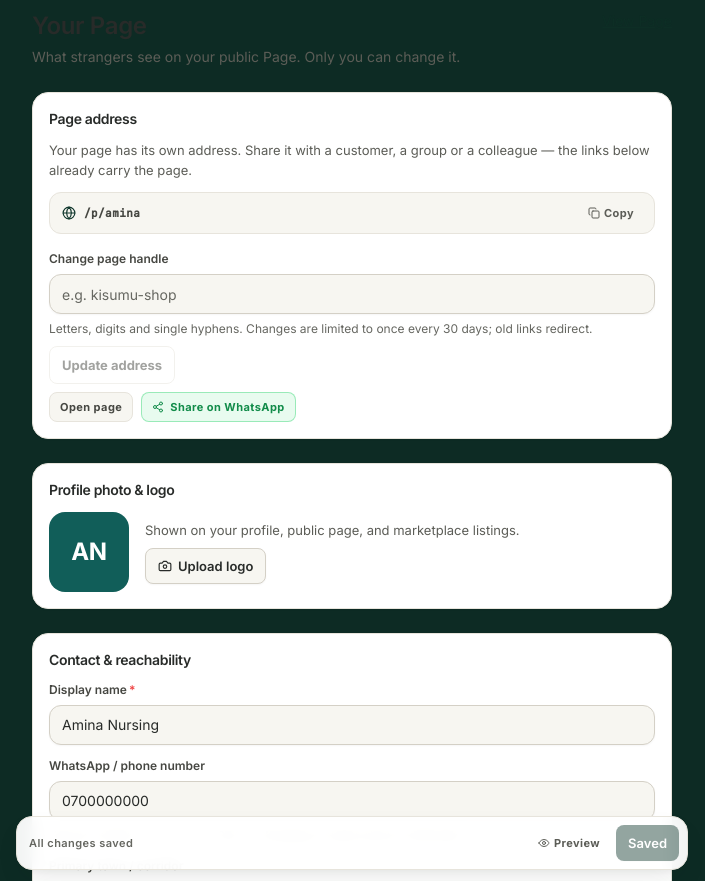
Test: the page editor's one save › admits the moment a change is unsaved, so nobody hunts for the button
The width and height of the screenshot is (705, 881).
Replace the text in the field showing "0700000000" with "0711111111" at (352, 801), box [49, 781, 655, 821]
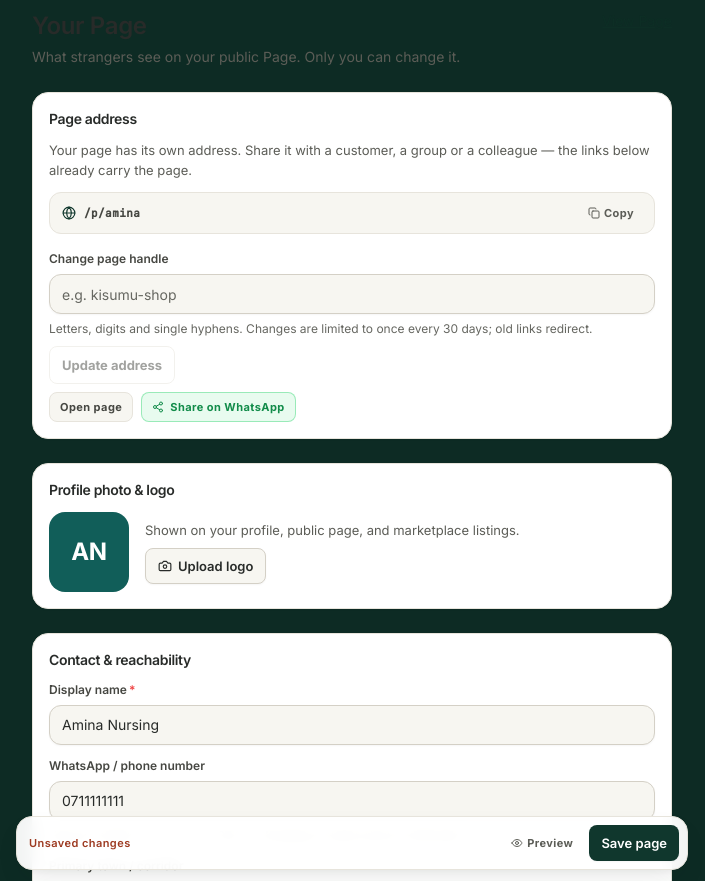
Expected: the text "Unsaved changes" is shown, [29, 836, 131, 850]
Expected: the button with test id "page-save" is enabled, [589, 825, 679, 861]
